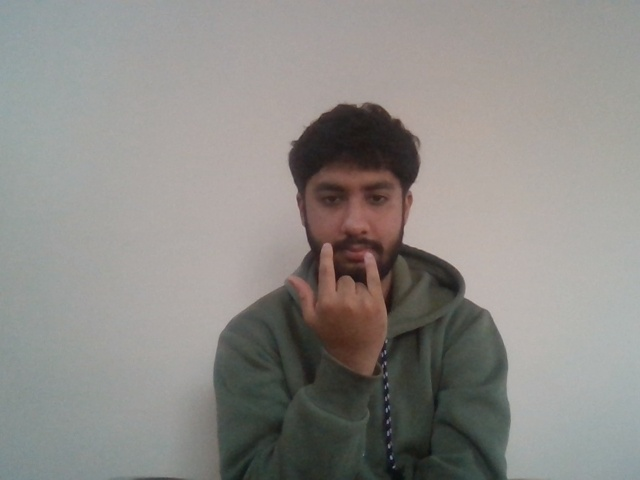IloveYou: (282, 239, 400, 352)
